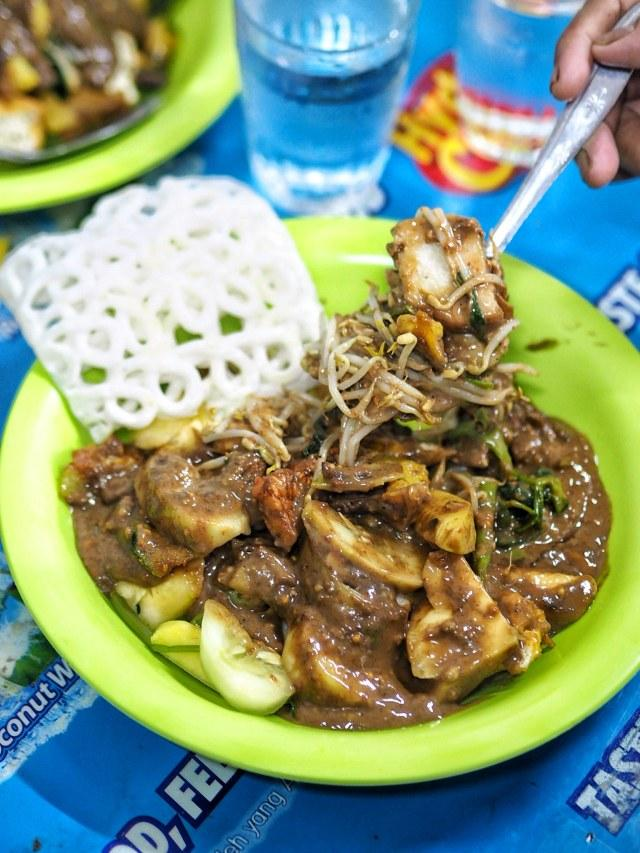rujak_cingur: (58, 207, 614, 733)
